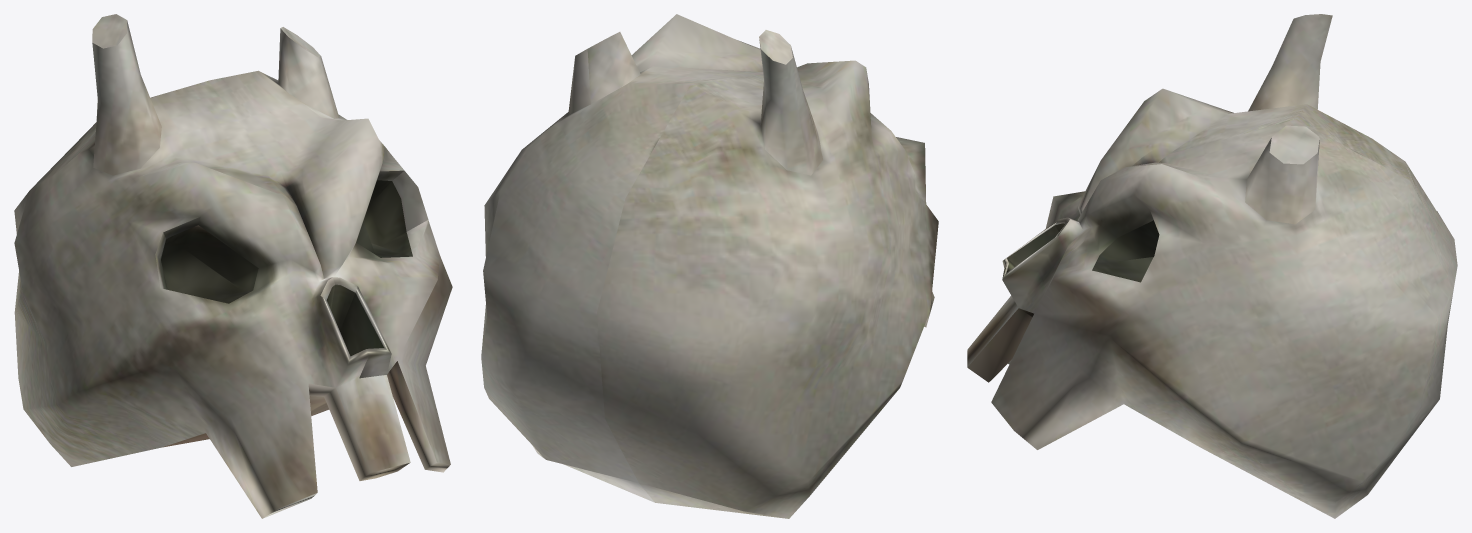
File: SM_SkullA.fbx
3 renders of one model, left to right at view 1: azimuth 30°, elevation 25°; view 2: azimuth 150°, elevation 25°; view 3: azimuth 270°, elevation 25°, orthographic. The views are drawn at different scales.
Parts seen in each view (by area): view 1: SM_SkullA; view 2: SM_SkullA; view 3: SM_SkullA.
Boxes of the visible parts, bbox=[...] form: SM_SkullA: bbox=[14, 14, 452, 518]; SM_SkullA: bbox=[481, 14, 938, 518]; SM_SkullA: bbox=[967, 14, 1457, 518].
Bounding box in the file's own units: 22.27 × 26.95 × 28.29.
